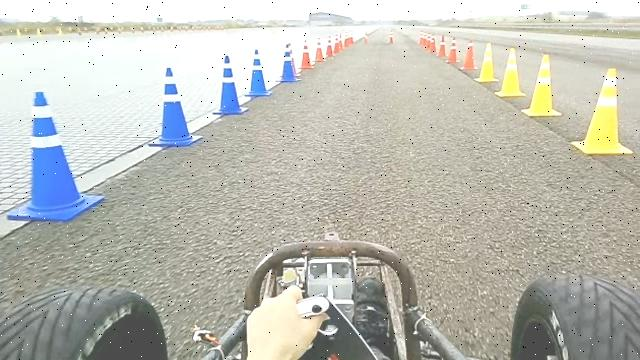blue cone: (7, 90, 105, 222), (148, 66, 203, 148), (212, 54, 249, 115), (244, 48, 272, 97), (275, 42, 301, 83)
red cone: (282, 42, 302, 76), (460, 38, 478, 72), (299, 38, 315, 70), (445, 36, 460, 64), (314, 37, 326, 62), (437, 34, 447, 58), (326, 34, 334, 57)
yellow cone: (571, 67, 633, 155), (521, 53, 562, 117), (494, 47, 526, 98), (474, 42, 499, 83)
